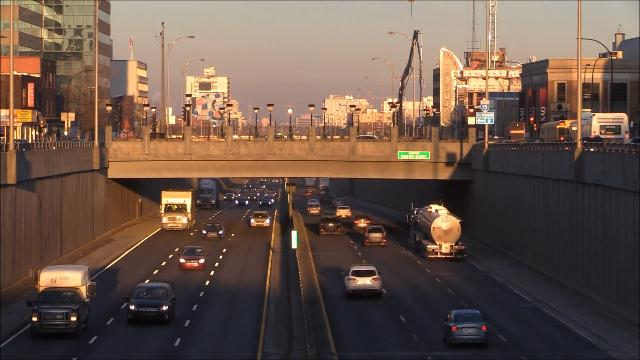bus: (570, 109, 631, 150), (538, 118, 576, 149)
car: (30, 263, 94, 337), (126, 282, 175, 326), (441, 309, 486, 346), (160, 189, 198, 232), (344, 263, 387, 297), (176, 246, 209, 271), (196, 178, 221, 209), (363, 224, 391, 248), (318, 216, 341, 237), (202, 222, 226, 240), (249, 210, 272, 228), (353, 214, 372, 231), (335, 206, 354, 219), (235, 196, 249, 208), (258, 197, 273, 208), (320, 191, 332, 202), (332, 199, 345, 209), (223, 191, 234, 201), (266, 189, 277, 198), (248, 192, 258, 201), (331, 191, 340, 201), (254, 189, 263, 198), (232, 190, 241, 198), (239, 186, 248, 193), (306, 187, 315, 194), (260, 176, 268, 183), (319, 185, 328, 191), (272, 178, 279, 183), (247, 183, 253, 188)
truck: (409, 203, 466, 259), (305, 178, 315, 188)
van: (303, 197, 323, 216), (300, 177, 308, 188)
